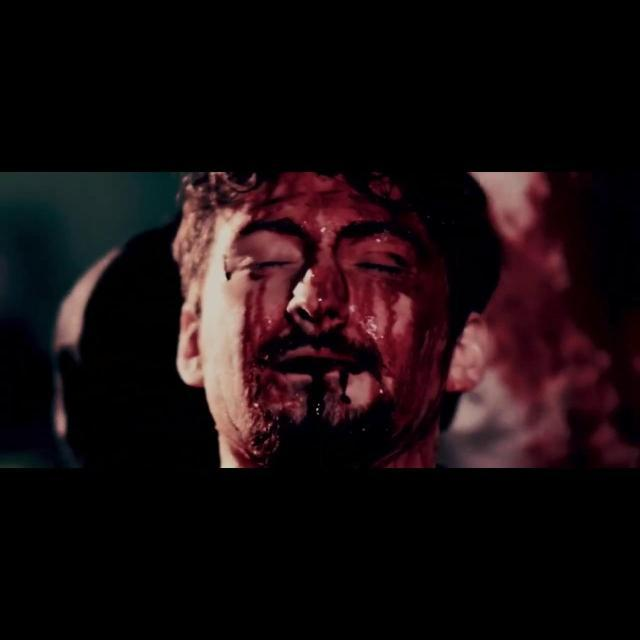blood: (234, 172, 450, 466), (486, 173, 640, 467), (224, 255, 234, 280)
